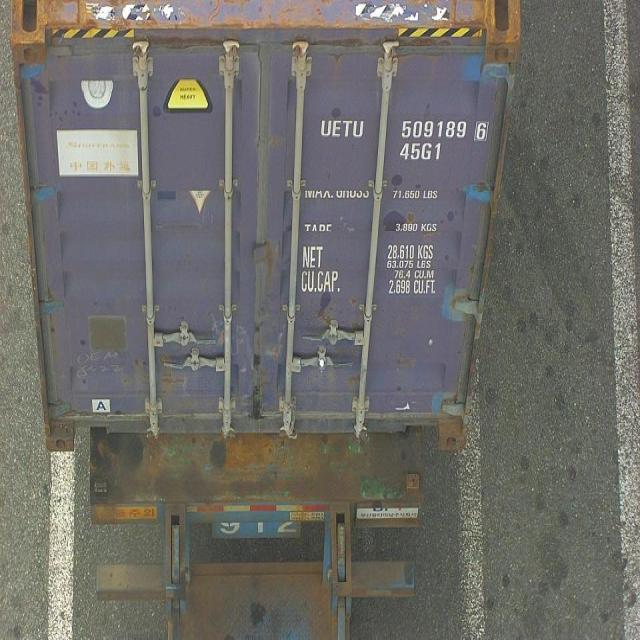ISO: (402, 142, 444, 160)
container_number: (316, 112, 487, 140)
